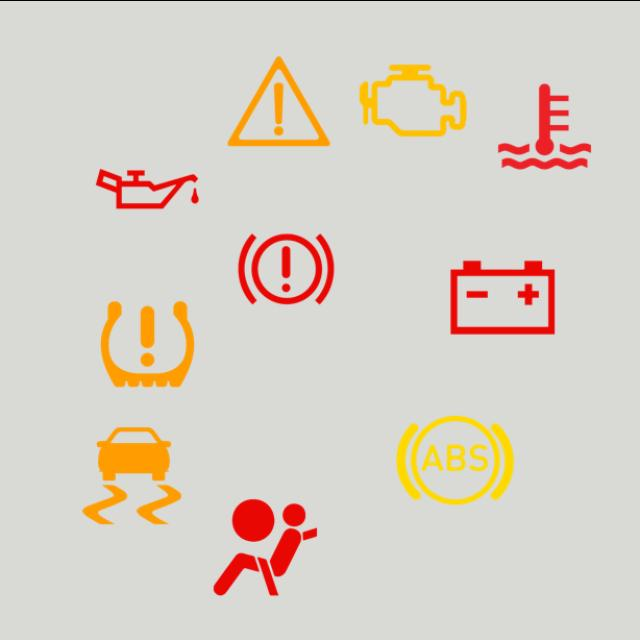Anti Lock Braking System: (391, 395, 519, 523)
Braking System Issue: (222, 205, 350, 332)
Charging System Issue: (439, 232, 567, 360)
Check Engine: (350, 35, 478, 164)
Electronic Stability Problem -ESP-: (68, 411, 196, 539)
Engine Overheating Warning Light: (481, 62, 608, 190)
Low Engine Oil Warning Light: (84, 124, 212, 252)
Low Tire Pressure Warning Light: (84, 280, 212, 408)
Master warning light: (215, 36, 343, 165)
SRS-Airbag: (202, 482, 330, 610)
